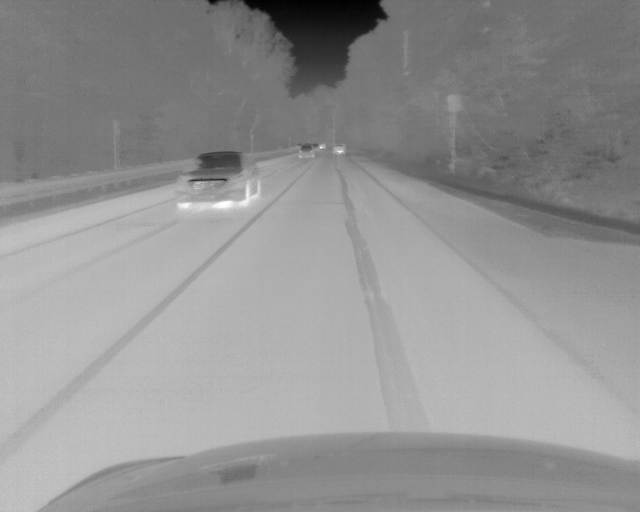car: (178, 150, 262, 207), (297, 143, 313, 159), (332, 142, 346, 156), (320, 142, 326, 150)
